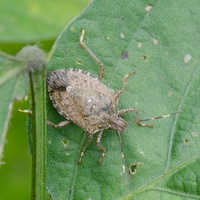insect: (48, 69, 122, 131)
